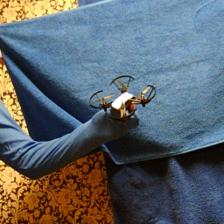drone: (89, 74, 159, 121)
